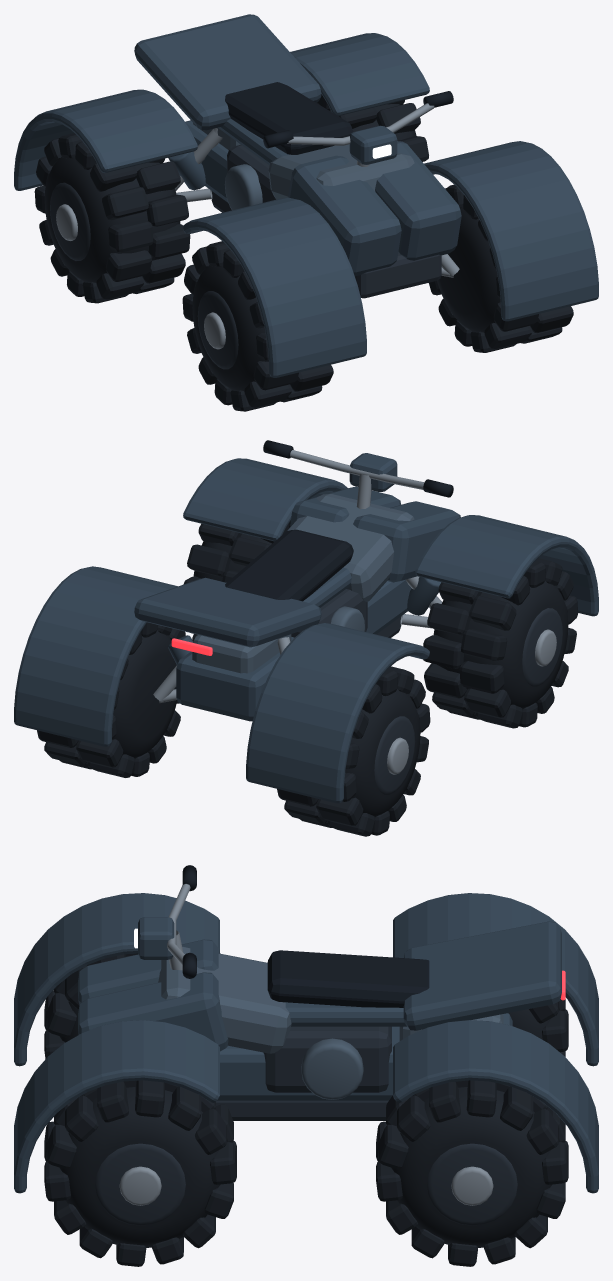
3 renders of one model, top to bottom at view 1: azimuth 30°, elevation 25°; view 2: azimuth 150°, elevation 25°; view 3: azimuth 270°, elevation 25°, orthographic. The views are drawn at different scales.
Visible parts, largest first — view 1: Chassis, Wheel_RL, Wheel_FL, Wheel_FR, Seat, Handlebars, Wheel_RR; view 2: Chassis, Wheel_FL, Wheel_RL, Wheel_RR, Seat, Handlebars, Wheel_FR; view 3: Chassis, Wheel_RR, Wheel_FR, Seat, Handlebars, Wheel_FL, Wheel_RL.
Part boxes in pixels (x1,y1,x2,y2): Chassis: (14,14,598,377); Wheel_RL: (34,133,190,303); Wheel_FL: (182,241,333,411); Wheel_FR: (429,184,573,352); Seat: (218,82,353,165); Handlebars: (263,91,453,166); Wheel_RR: (316,94,428,161); Chassis: (14,458,598,803); Wheel_FL: (423,558,578,728); Wheel_RL: (277,666,430,836); Wheel_RR: (37,622,185,777); Seat: (225,529,353,607); Handlebars: (263,440,453,509); Wheel_FR: (183,520,290,641); Chassis: (14,893,598,1193); Wheel_RR: (376,1080,568,1266); Wheel_FR: (44,1080,236,1266); Seat: (267,950,429,1026); Handlebars: (138,865,196,978); Wheel_FL: (44,953,137,1058); Wheel_RL: (508,999,568,1056).
Size of the model in its own units: 1.68 by 1.14 by 2.26.
